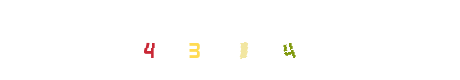3: (178, 0, 258, 80)
4: (110, 0, 190, 80), (249, 0, 329, 80)
I: (190, 0, 270, 80)
